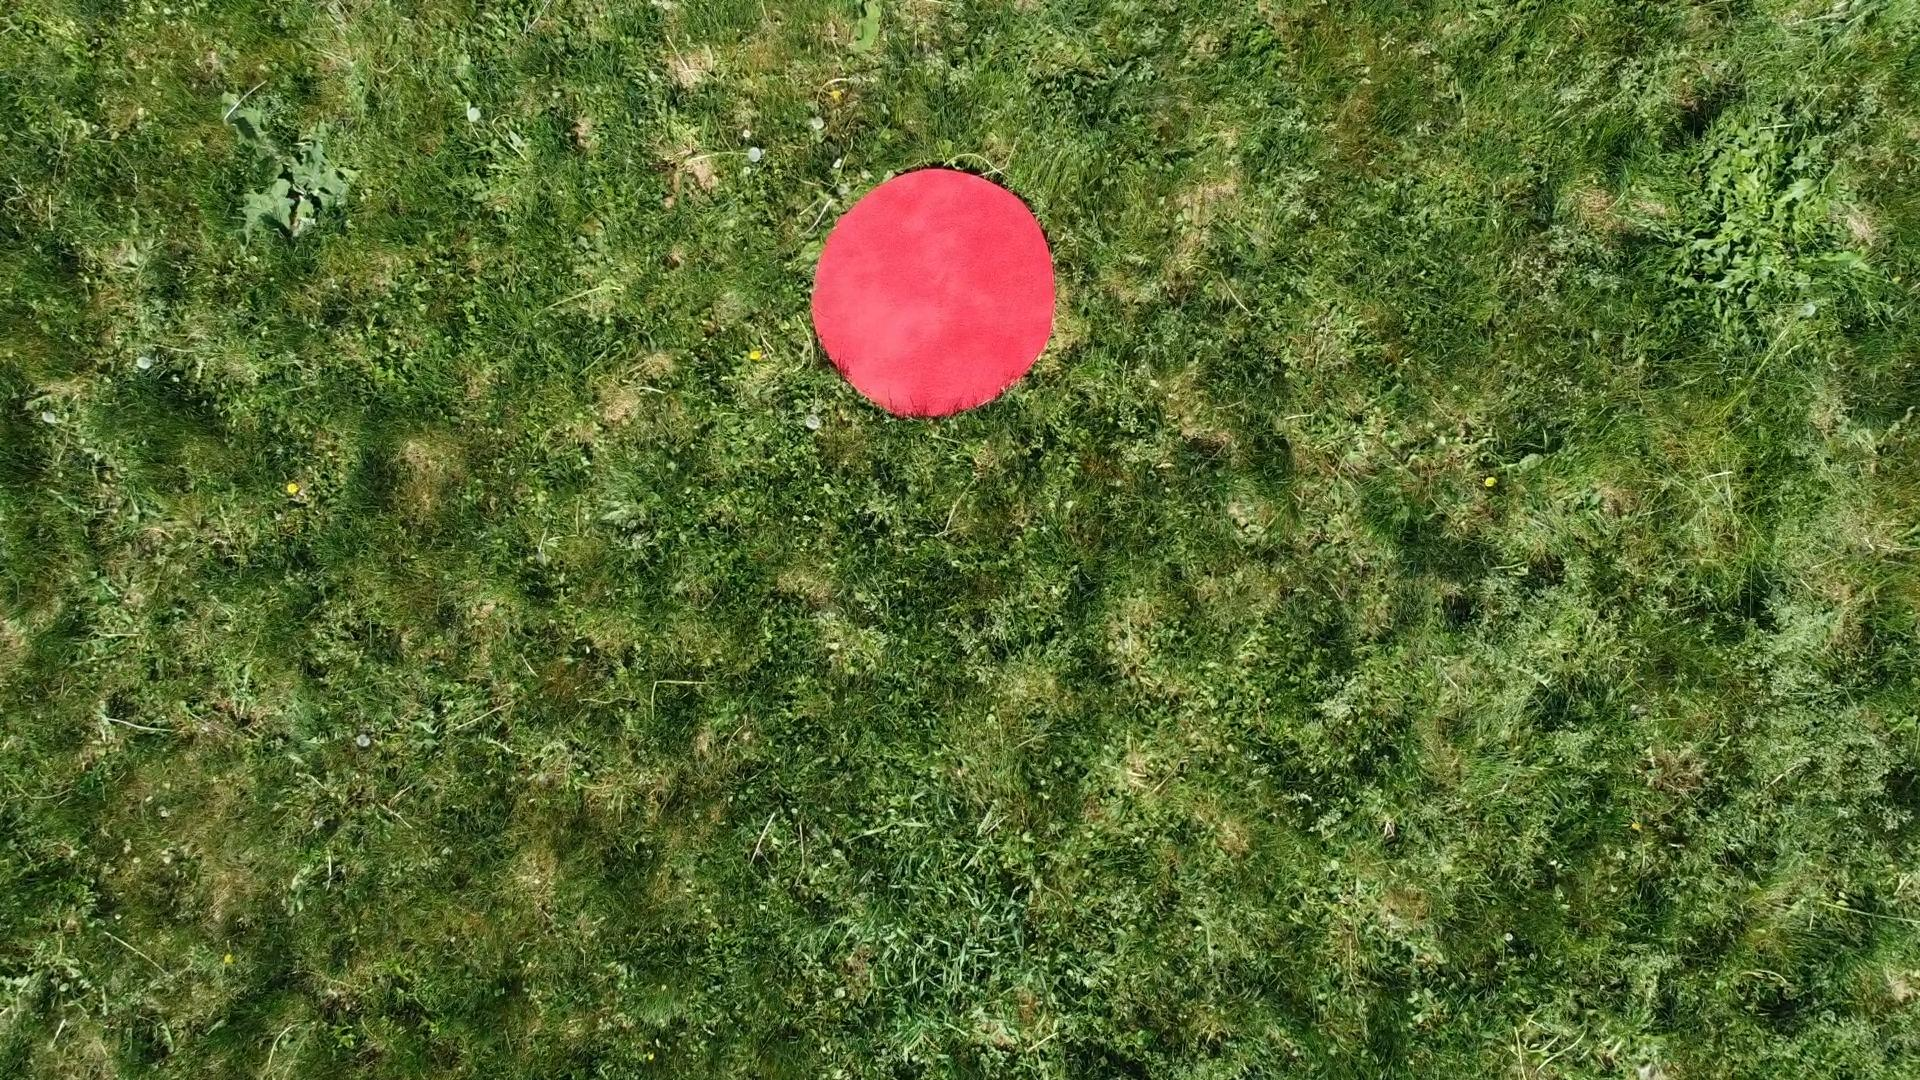Red: (804, 153, 1069, 429)
